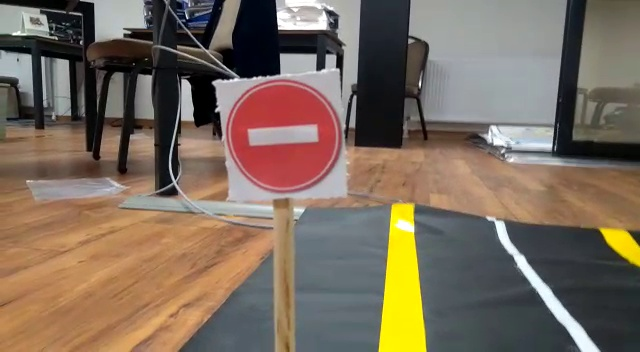girisi_olmayan_yol: (215, 72, 348, 195)
